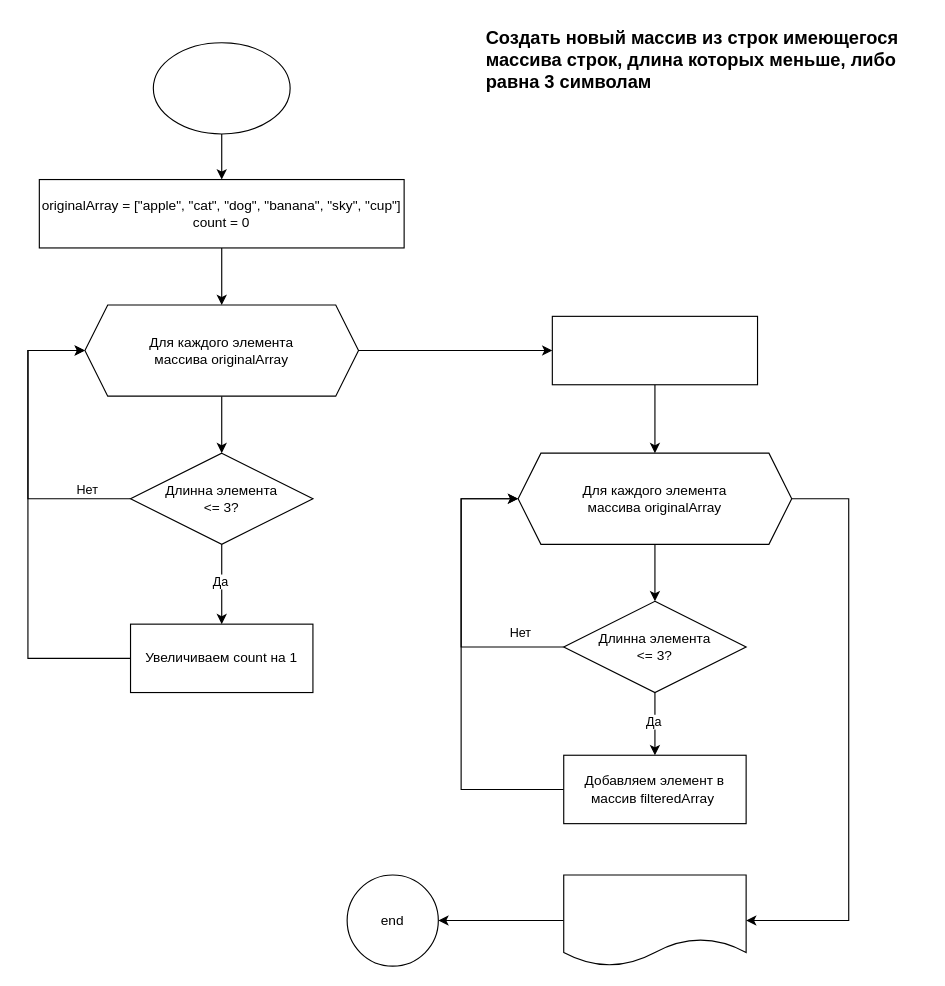
This 945x986 diagram has some shape labels left out. Each missing label, with the centre of its shape:
"originalArray filteredArray" belongs at (654,920).
"start" belongs at (221,88).
"Создаем массив filteredArray размером count" belongs at (654,350).
